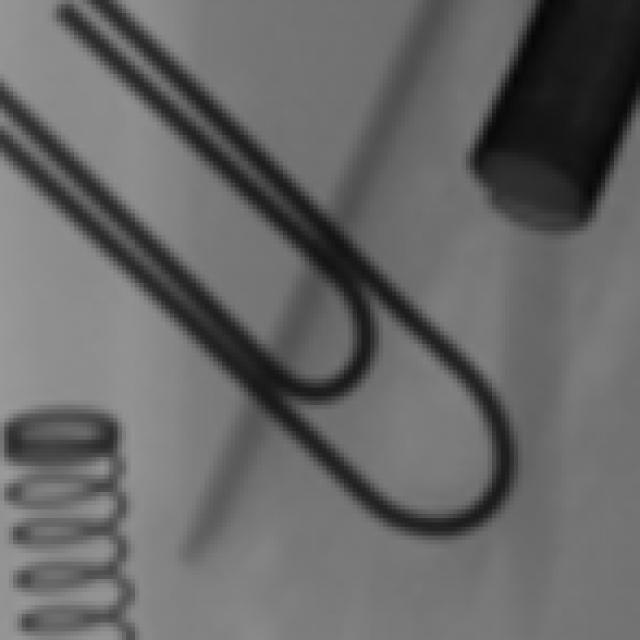GUN: (492, 7, 631, 261)
